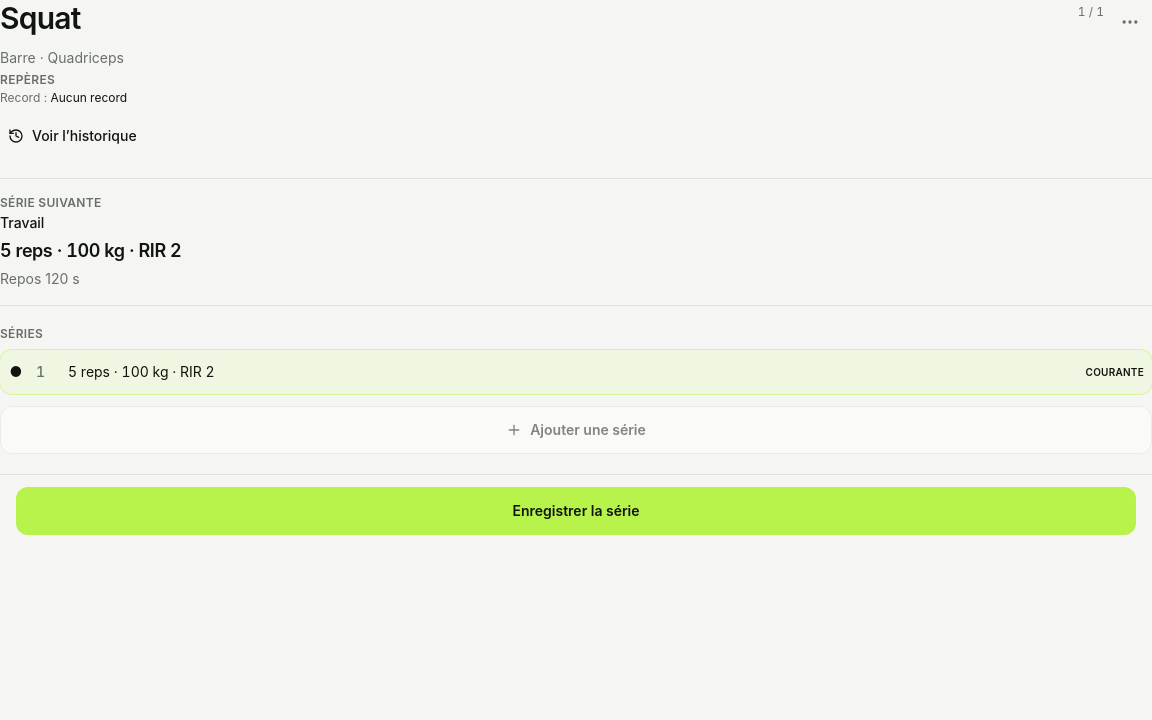
Test: Ajouter les séries d’échauffement (calculateur de disques) › désactive l’action hors ligne et explique pourquoi
Step 1. Click the button named "Actions de l’exercice" → {"x": 1130, "y": 22}, box [1108,0,1151,44]
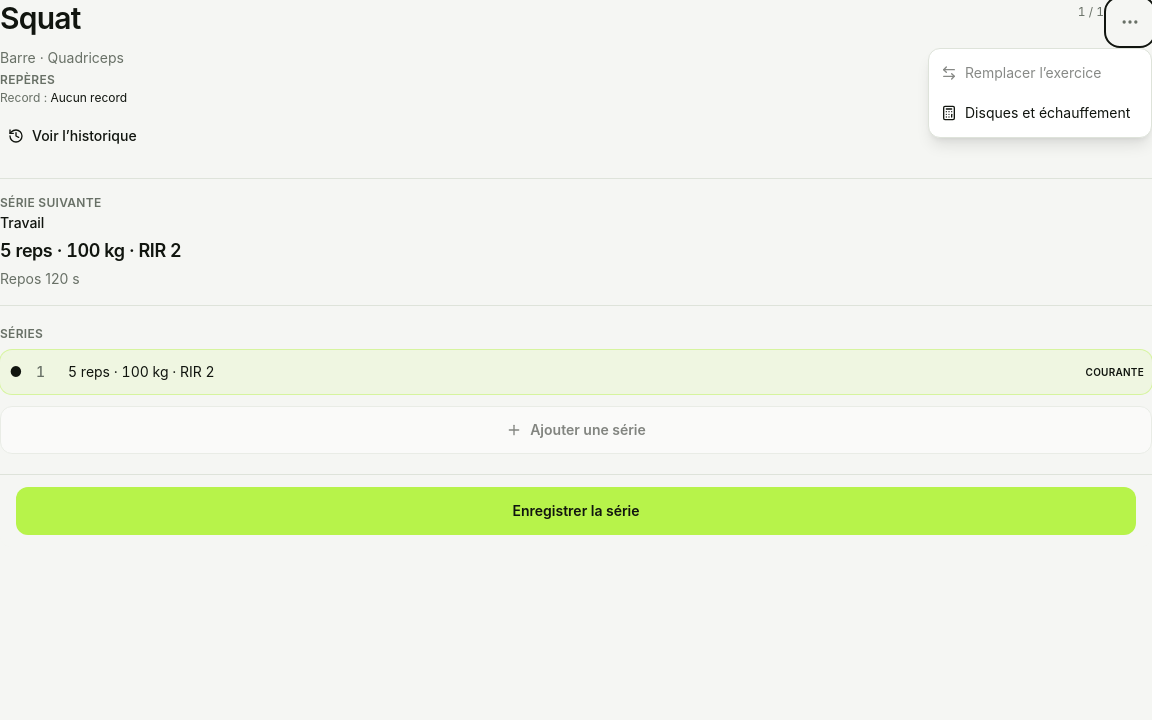
Step 2. Click the menu item "Disques et échauffement" → {"x": 1040, "y": 113}, box [929,93,1151,133]
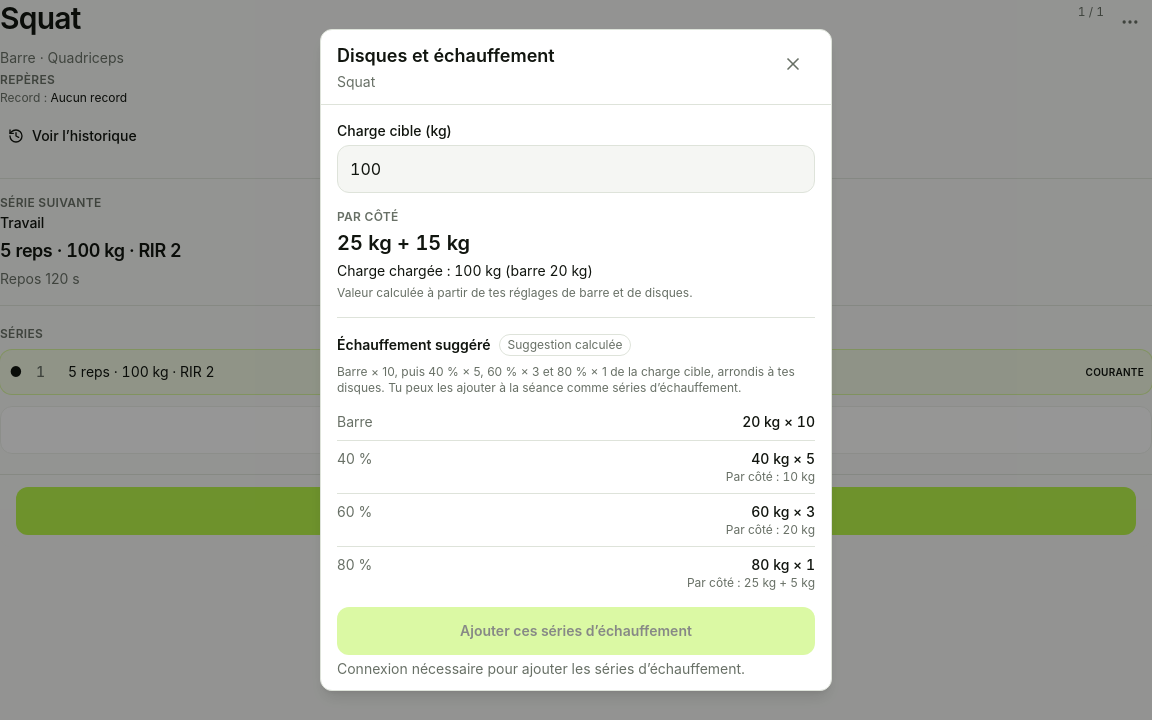
Expected: the button "Ajouter ces séries d’échauffement" is disabled, [337,607,815,655]
